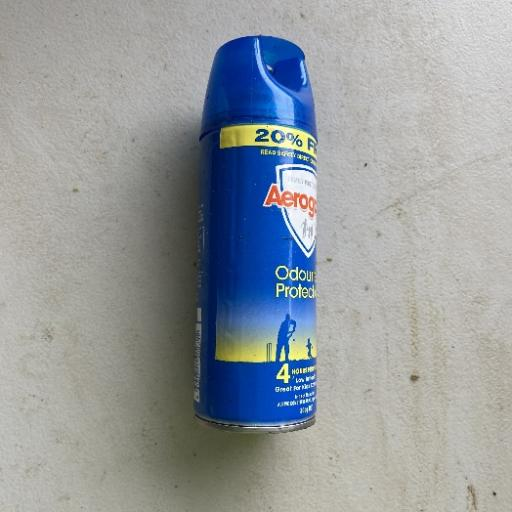Metal: (190, 33, 320, 434)
